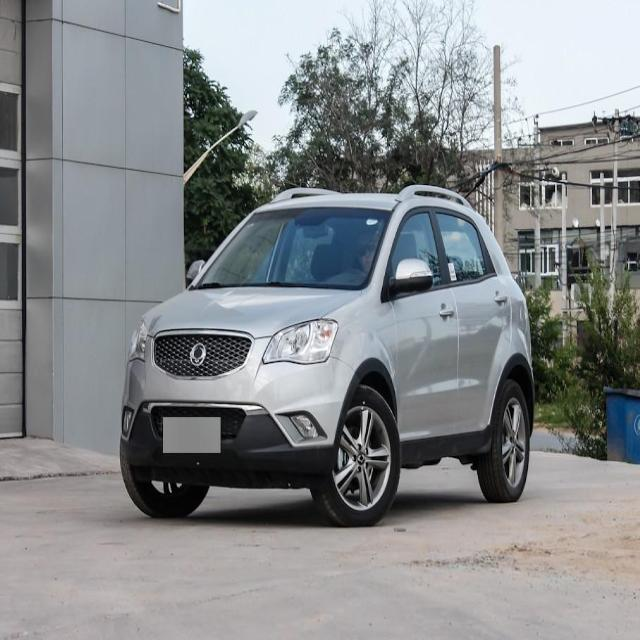door: (429, 209, 512, 436)
front_bumper: (117, 359, 355, 468)
front_glass: (199, 204, 395, 292)
front_left_side_door: (383, 197, 462, 447)
front_left_side_light: (261, 315, 341, 366)
front_left_side_mirror: (387, 256, 434, 300)
front_right_side_light: (126, 315, 152, 368)
front_right_side_mirror: (187, 256, 208, 288)
wheel: (313, 386, 402, 522), (476, 375, 533, 500), (120, 452, 212, 517)
